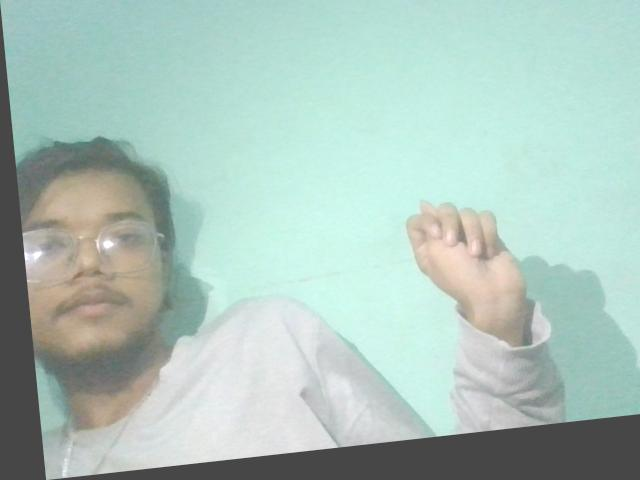Washroom: (385, 187, 565, 365)
